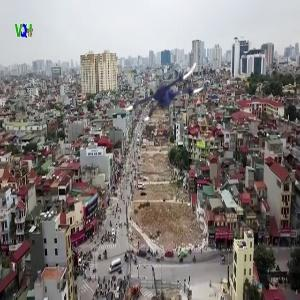drone: (121, 45, 207, 131)
